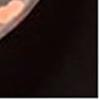orange: (7, 0, 23, 15), (0, 6, 10, 23)
